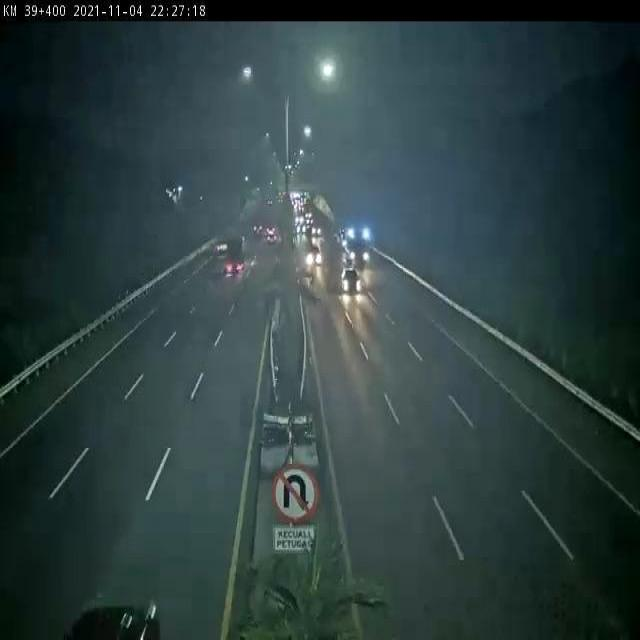car: (341, 267, 362, 292)
truck-m-: (223, 232, 245, 276)
